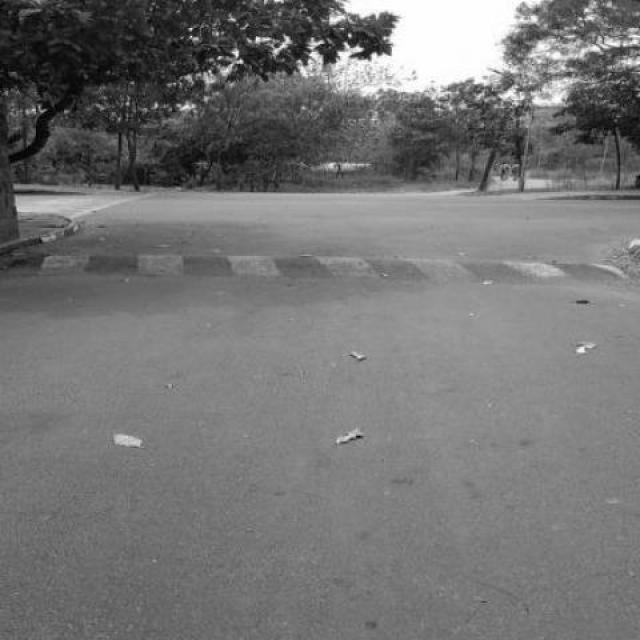Speed Bump: (2, 253, 630, 283)
